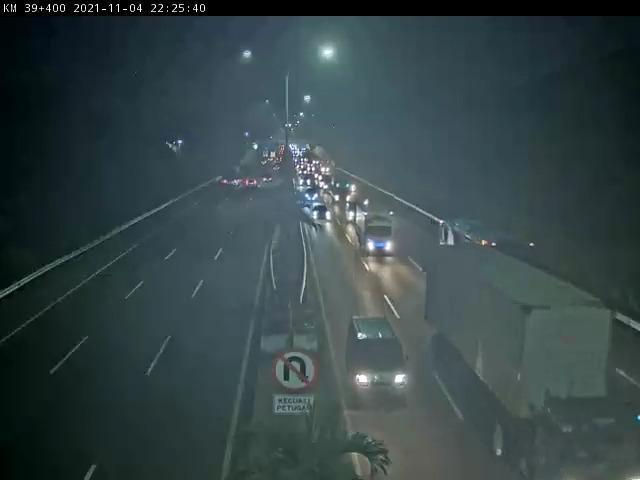bus: (436, 217, 528, 245)
car: (345, 317, 411, 405), (244, 174, 264, 194), (312, 200, 330, 220)
truck: (427, 248, 630, 480), (350, 210, 397, 257)
